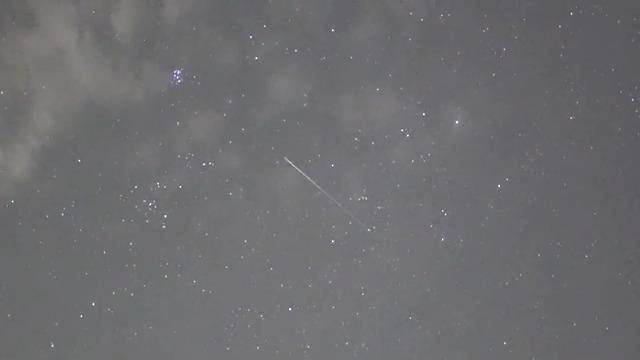meteorite: (277, 152, 345, 210)
